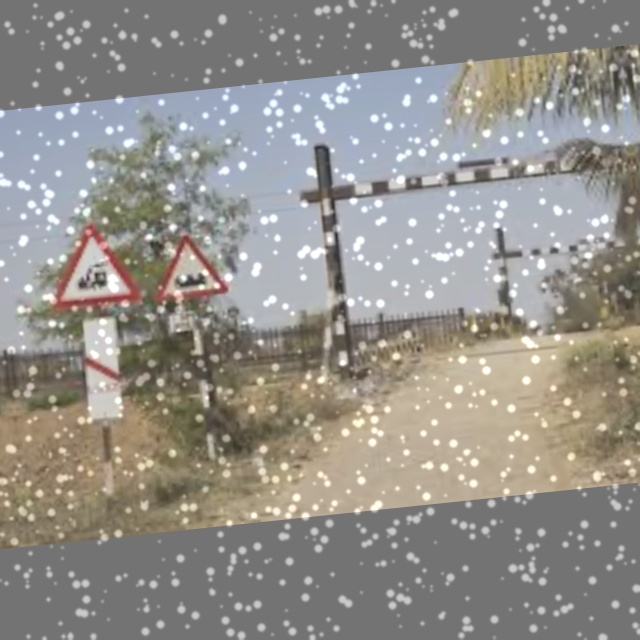Unguarded_Level_Crossing: (48, 216, 139, 318)
